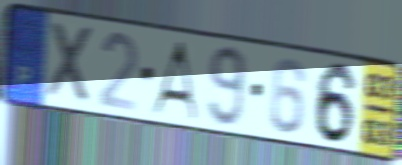2: (97, 29, 140, 115)
6: (311, 60, 361, 147), (268, 55, 308, 136)
9: (206, 42, 248, 130)
A: (147, 39, 200, 123)
X: (45, 18, 97, 107)
